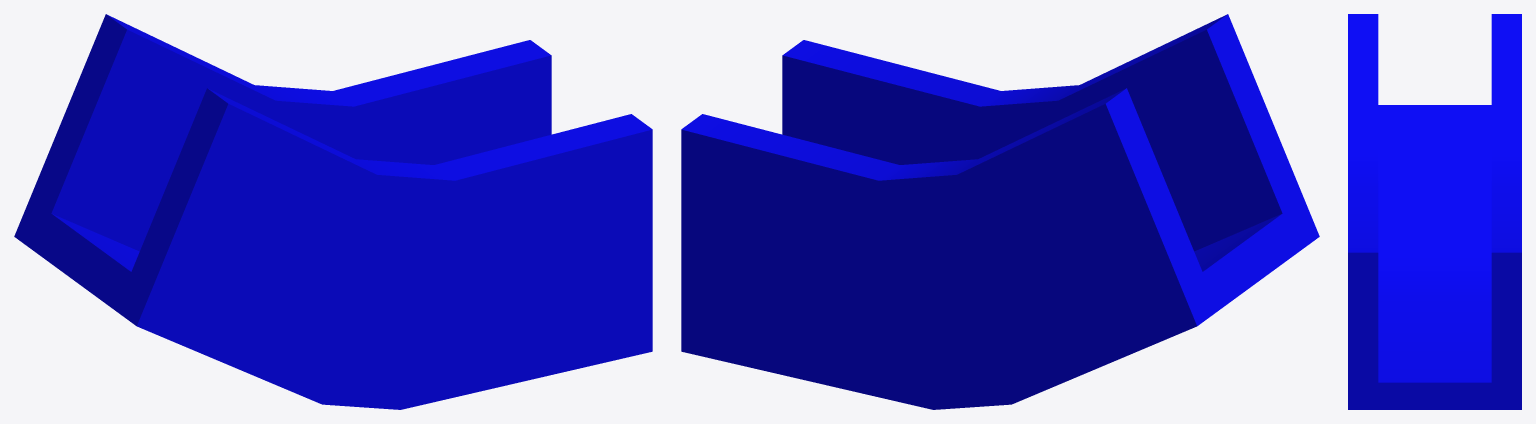
The model's file is CastingRoom_Funnel.fbx.
3 renders of one model, left to right at view 1: azimuth 30°, elevation 25°; view 2: azimuth 150°, elevation 25°; view 3: azimuth 270°, elevation 25°, orthographic. The views are drawn at different scales.
Visible parts, largest first — view 1: CastingRoom_Funnel; view 2: CastingRoom_Funnel; view 3: CastingRoom_Funnel.
Part boxes in pixels (x1=…): CastingRoom_Funnel: x1=14, y1=14, x2=652, y2=409; CastingRoom_Funnel: x1=681, y1=14, x2=1319, y2=409; CastingRoom_Funnel: x1=1348, y1=14, x2=1521, y2=409.
Bounding box in the file's own units: 214 × 140 × 88.19.
